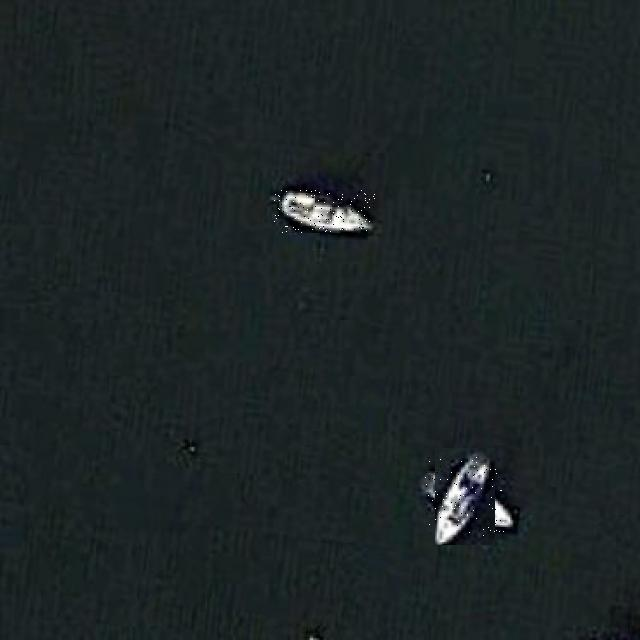boat: (425, 457, 504, 536), (274, 190, 375, 233)
